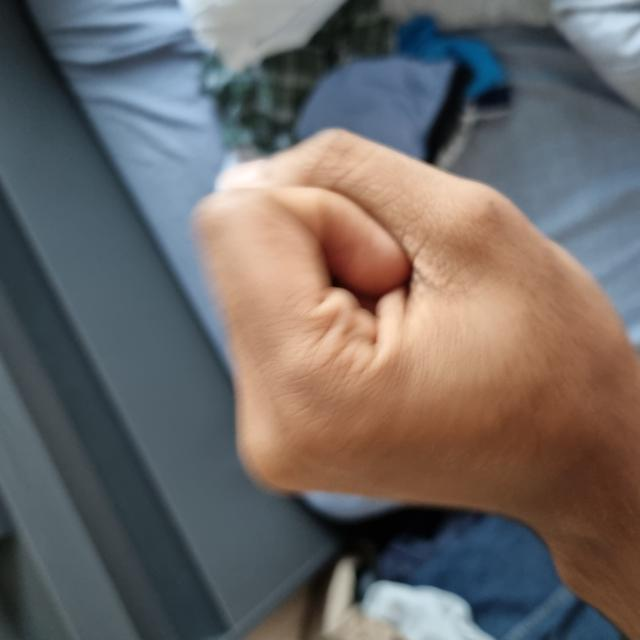Rock: (101, 197, 507, 637)
